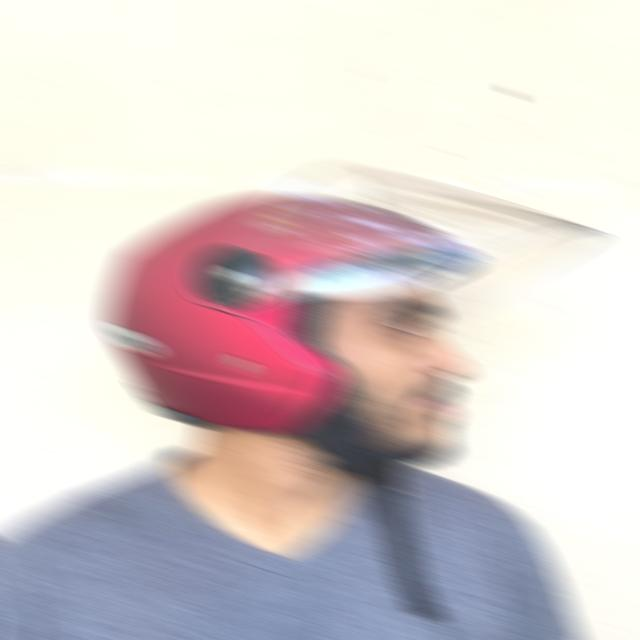With Helmet: (100, 159, 606, 439)
